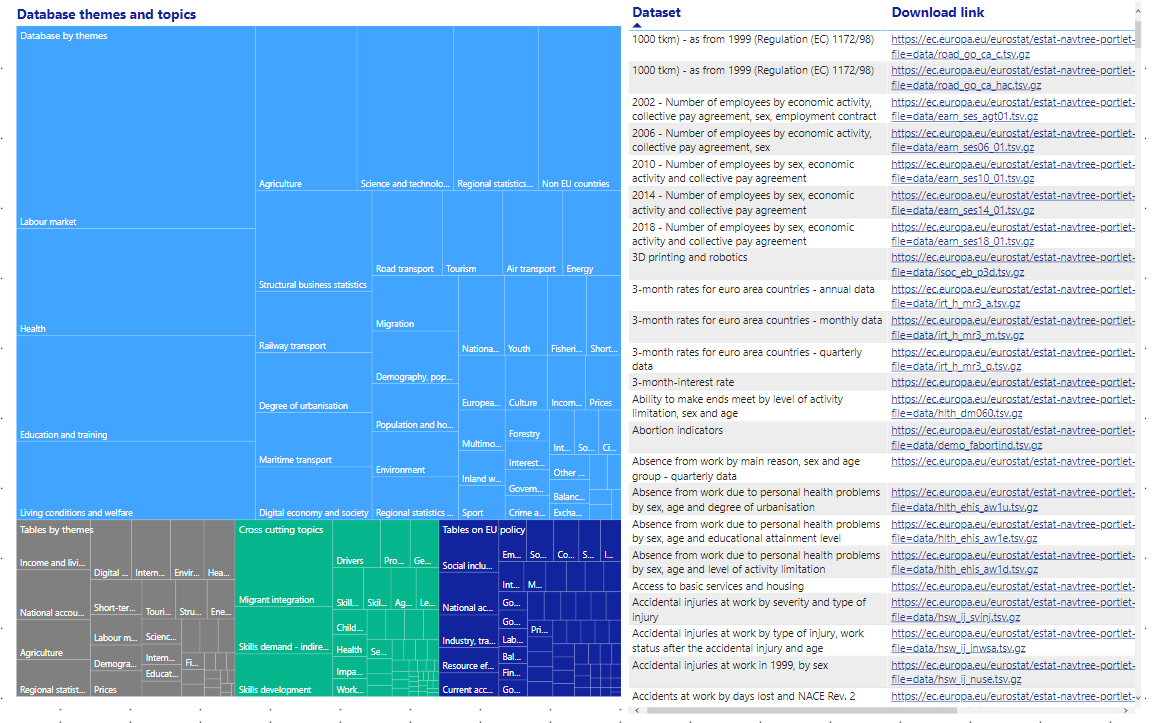

The dashboard page shown, as its layout file describes it:
{"tool":"powerbi","page":{"name":"DB topics and datasets","canvas":[1600,1000],"ordinal":2},"visuals":[{"type":"treemap","title":"Database themes and topics","fields":{"Group":["Crumbs.name1","Crumbs.name2"],"Values":["Count(Crumbs.Files)"],"Details":["Crumbs.name3"]},"box":[32,8.9,839.1,954.7],"z":0},{"type":"tableEx","fields":{"Values":["Crumbs.last_name","crumbs.Files"]},"box":[871.1,0,714.7,986.7],"z":1000}]}

Visuals, with their boxes in screenshot pixels (x1, y1, x2, y2), scaled from the page's 1600x1000 canvas onto the 1152x723 screenshot:
"Database themes and topics" treemap: box=[23, 6, 627, 697]
tableEx - Crumbs.last_name x crumbs.Files: box=[627, 0, 1142, 713]
